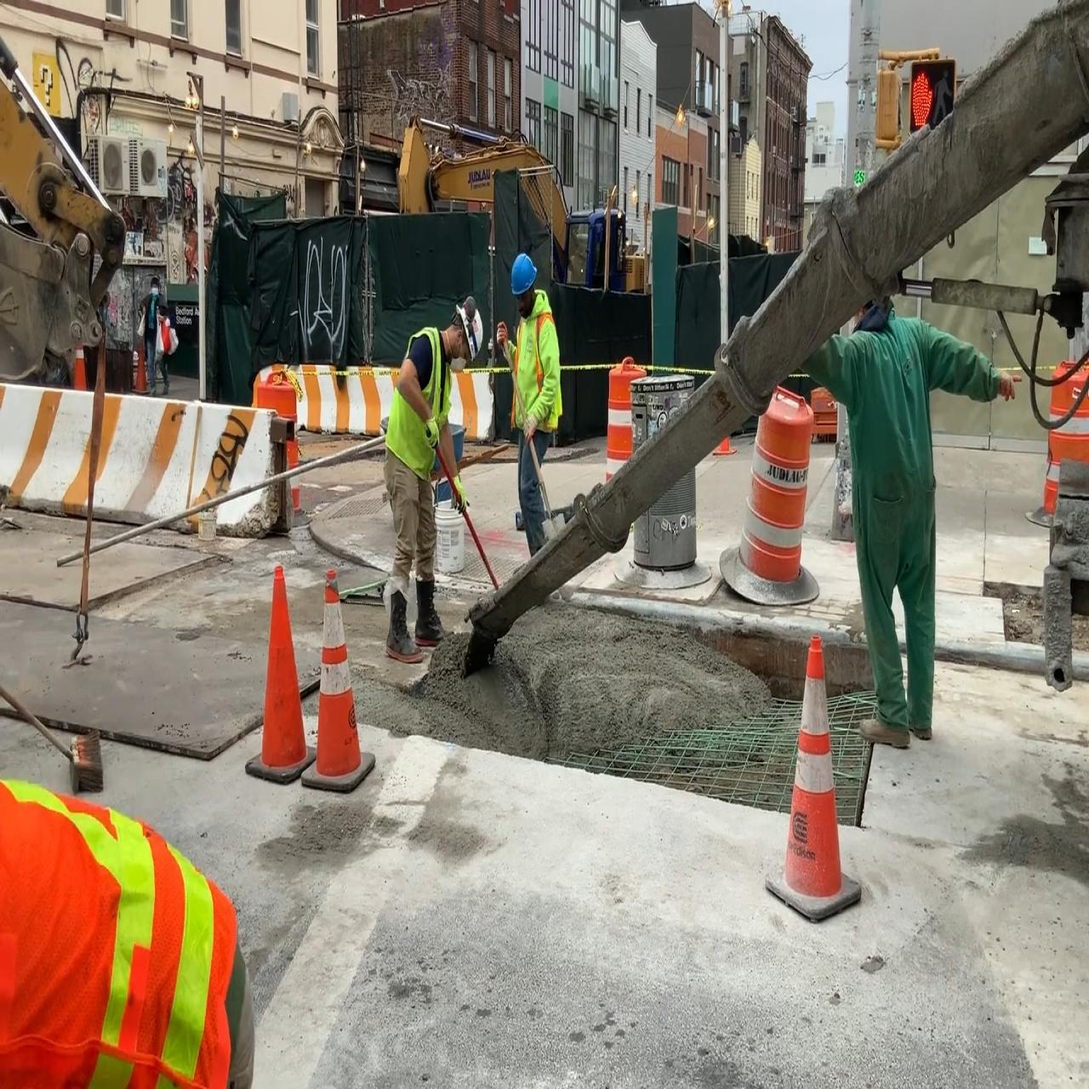NO_Safety_Vest: (847, 314, 933, 506), (145, 293, 164, 346)
Person: (798, 257, 1022, 748), (385, 294, 482, 662), (496, 251, 564, 586), (137, 274, 177, 399)
Safety_Vest: (0, 783, 239, 1087), (389, 327, 453, 487), (512, 308, 563, 440)
